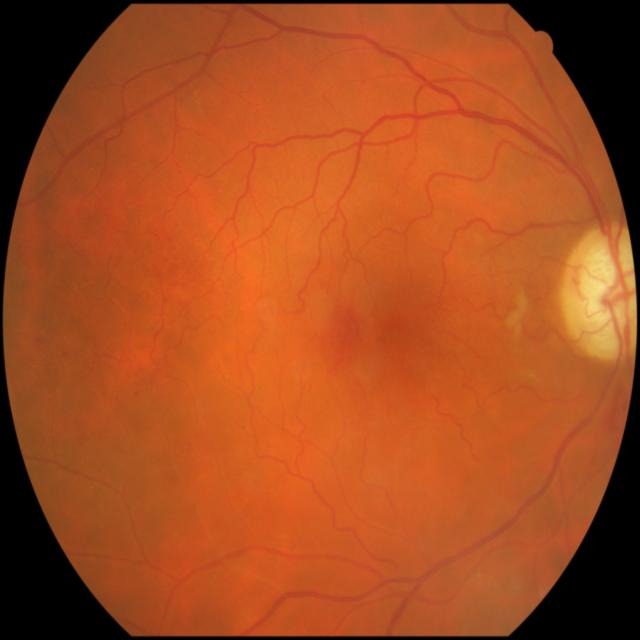OC: (579, 255, 620, 322)
OD: (562, 224, 640, 360)
